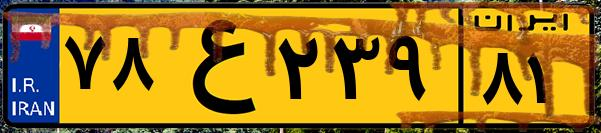1: (525, 38, 570, 115)
2: (270, 28, 330, 110)
3: (330, 28, 385, 110)
7: (57, 26, 110, 100)
8: (475, 38, 525, 113), (110, 28, 158, 98)
9: (385, 28, 445, 110)
ع: (158, 12, 270, 120)
